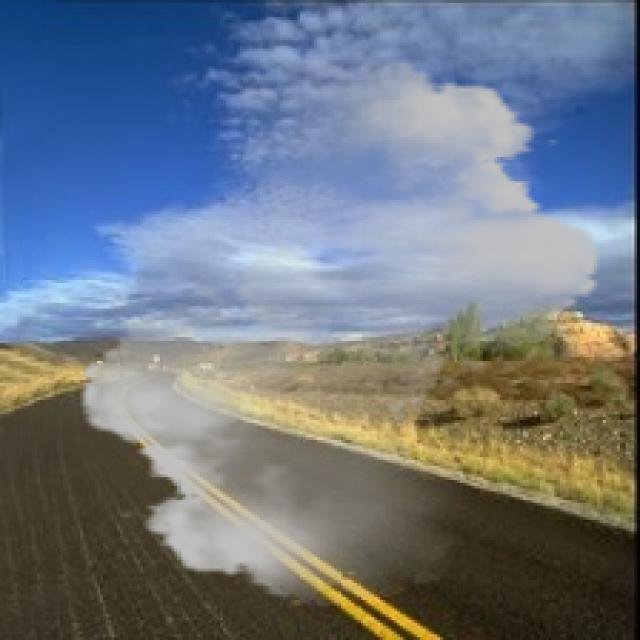smoke: (63, 51, 617, 606)
